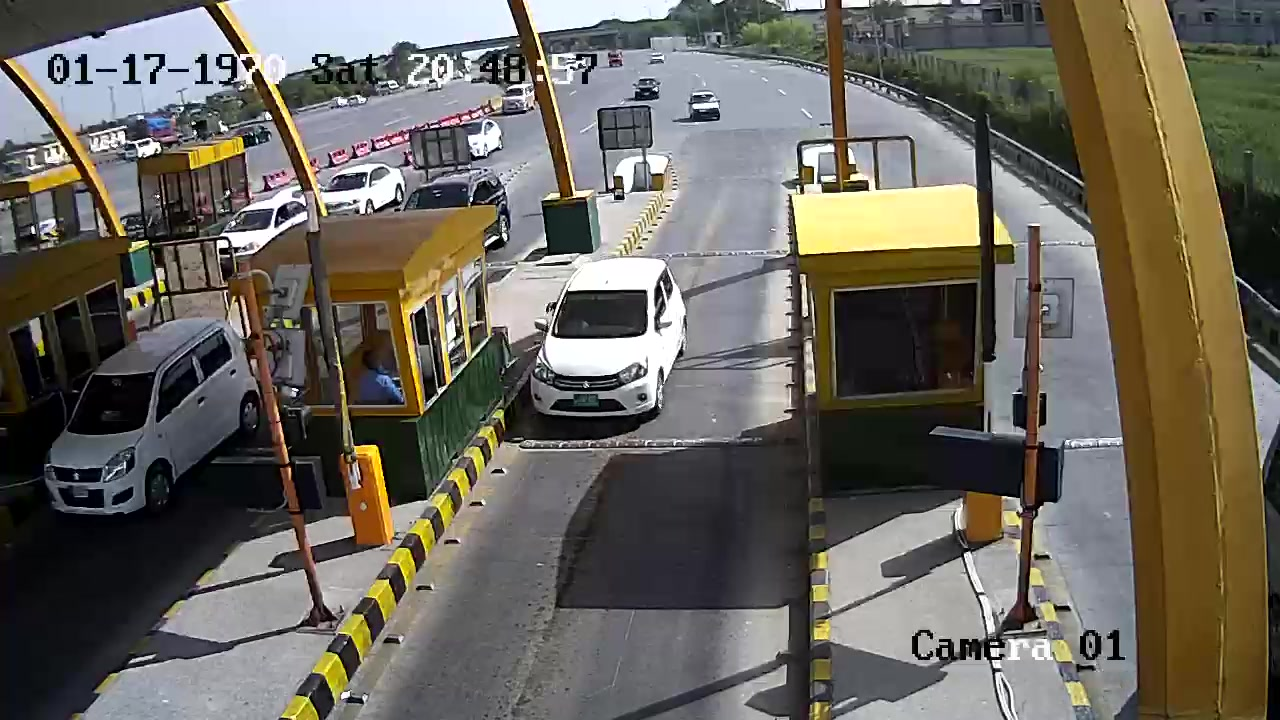F1: (515, 253, 694, 429)
